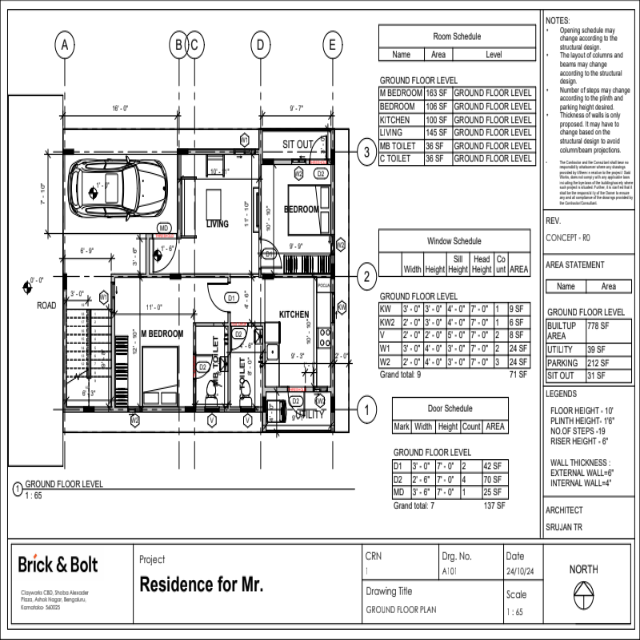door: (151, 235, 179, 274), (207, 280, 231, 316), (260, 236, 283, 270), (194, 351, 214, 381), (287, 388, 307, 418), (309, 134, 329, 163), (230, 324, 250, 351)
